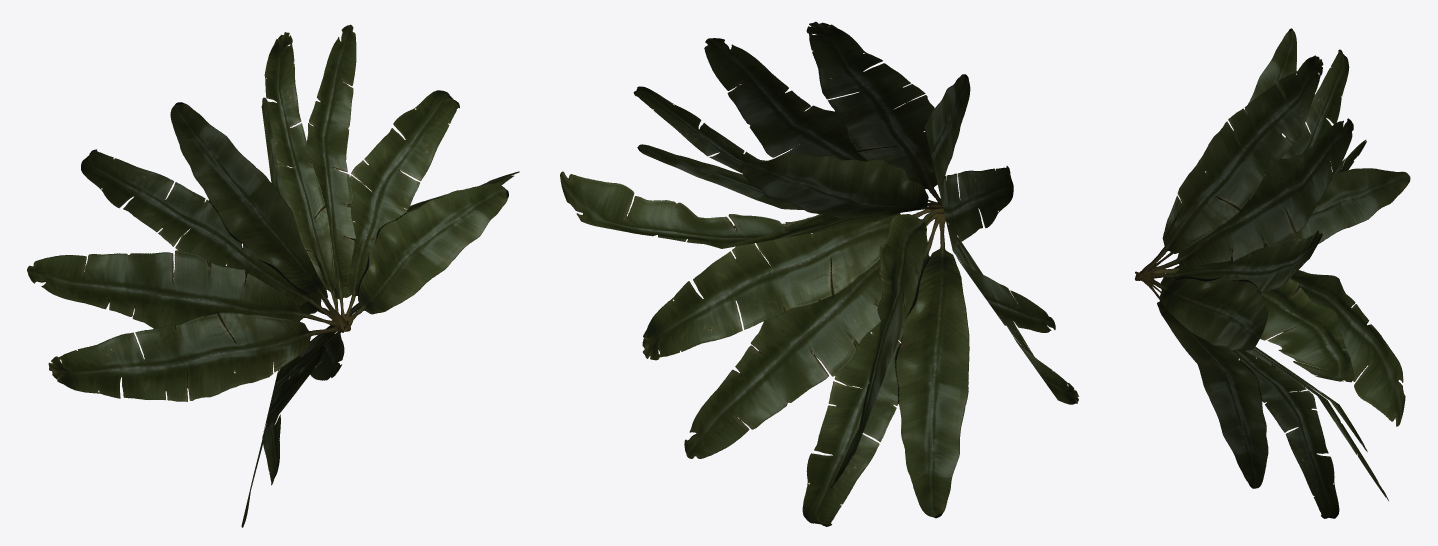
File: MEP_Palm_03_S.fbx
3 renders of one model, left to right at view 1: azimuth 30°, elevation 25°; view 2: azimuth 150°, elevation 25°; view 3: azimuth 270°, elevation 25°, orthographic. The views are drawn at different scales.
Parts seen in each view (by area): view 1: MEP_Palm_03_S; view 2: MEP_Palm_03_S; view 3: MEP_Palm_03_S.
Boxes of the visible parts, box(x1,y1,x2,y2) form: MEP_Palm_03_S: box(27, 24, 519, 527); MEP_Palm_03_S: box(560, 21, 1078, 526); MEP_Palm_03_S: box(1135, 28, 1410, 518).
Bounding box in the file's own units: 2.65 × 2.45 × 1.39.
